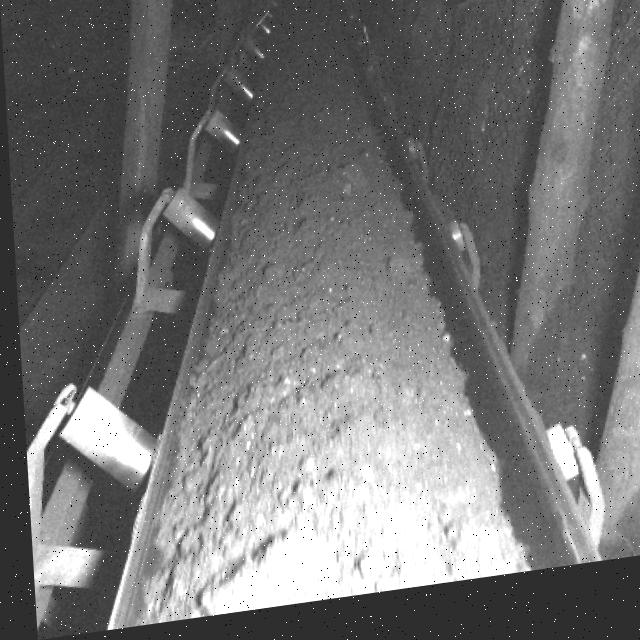large_sized_coal: (189, 531, 317, 622)
